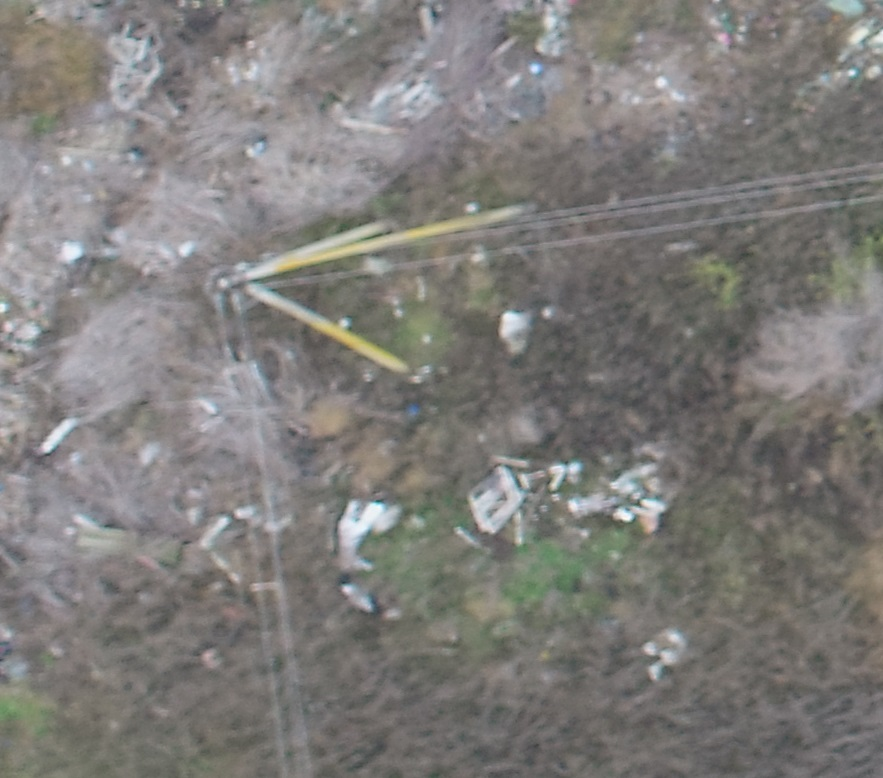opora: (205, 198, 540, 382)
